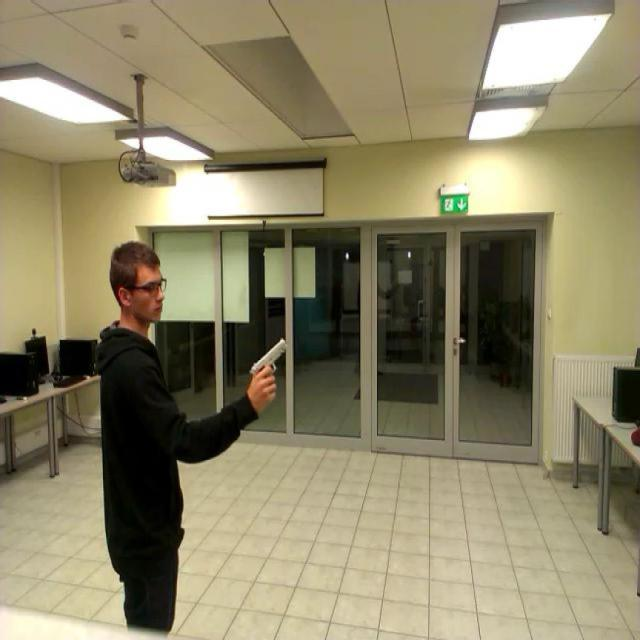pistol: (248, 338, 288, 396)
